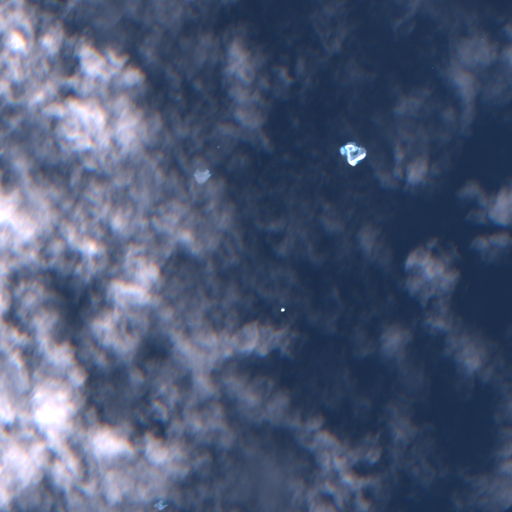Iceberg: (340, 142, 365, 166), (193, 169, 210, 183), (154, 501, 168, 509), (281, 308, 284, 311)
